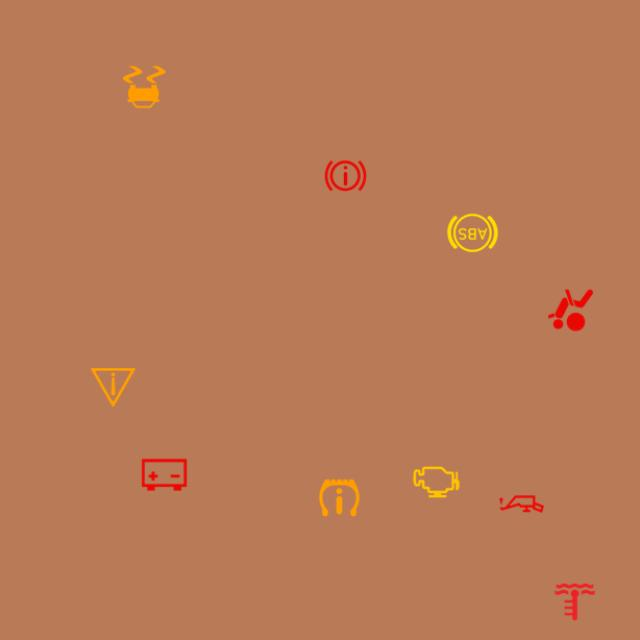Anti Lock Braking System: (445, 206, 500, 260)
Braking System Issue: (318, 148, 373, 203)
Charging System Issue: (136, 448, 192, 502)
Check Engine: (408, 454, 464, 510)
Electronic Stability Problem -ESP-: (117, 59, 172, 114)
Engine Overheating Warning Light: (548, 574, 602, 630)
Low Engine Oil Warning Light: (494, 476, 549, 532)
Low Tire Pressure Warning Light: (312, 470, 367, 525)
Master warning light: (86, 360, 140, 414)
SRS-Airbag: (543, 282, 598, 338)
